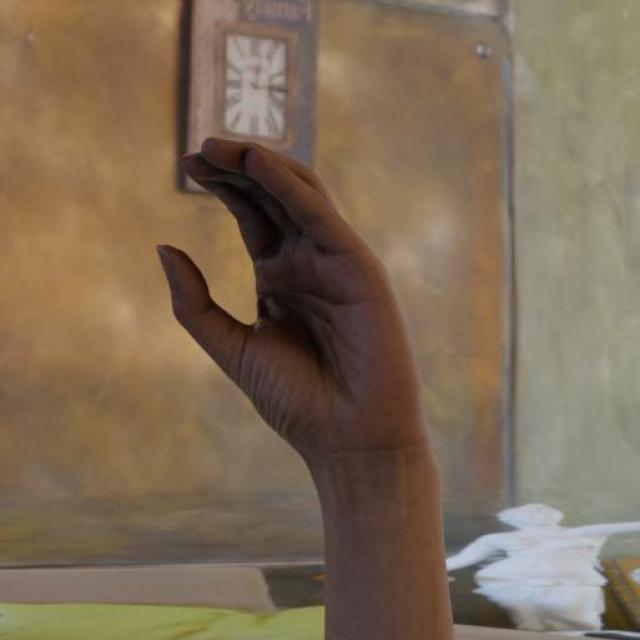C: (147, 128, 442, 494)
